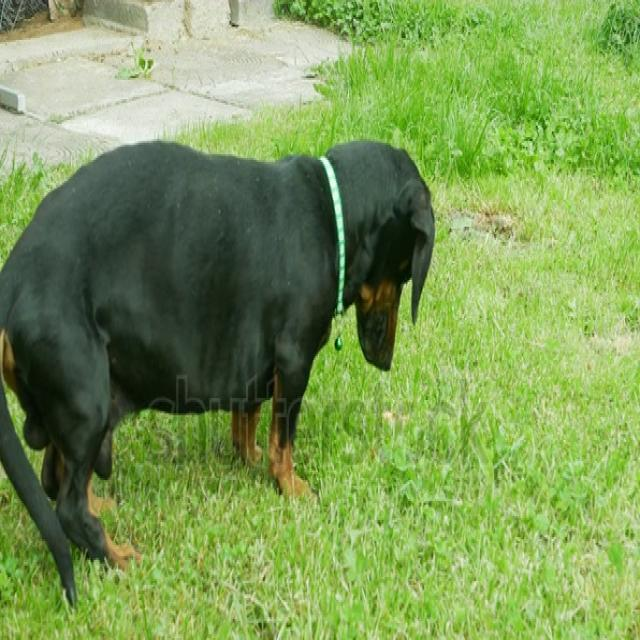normal_animals: (0, 130, 438, 610)
